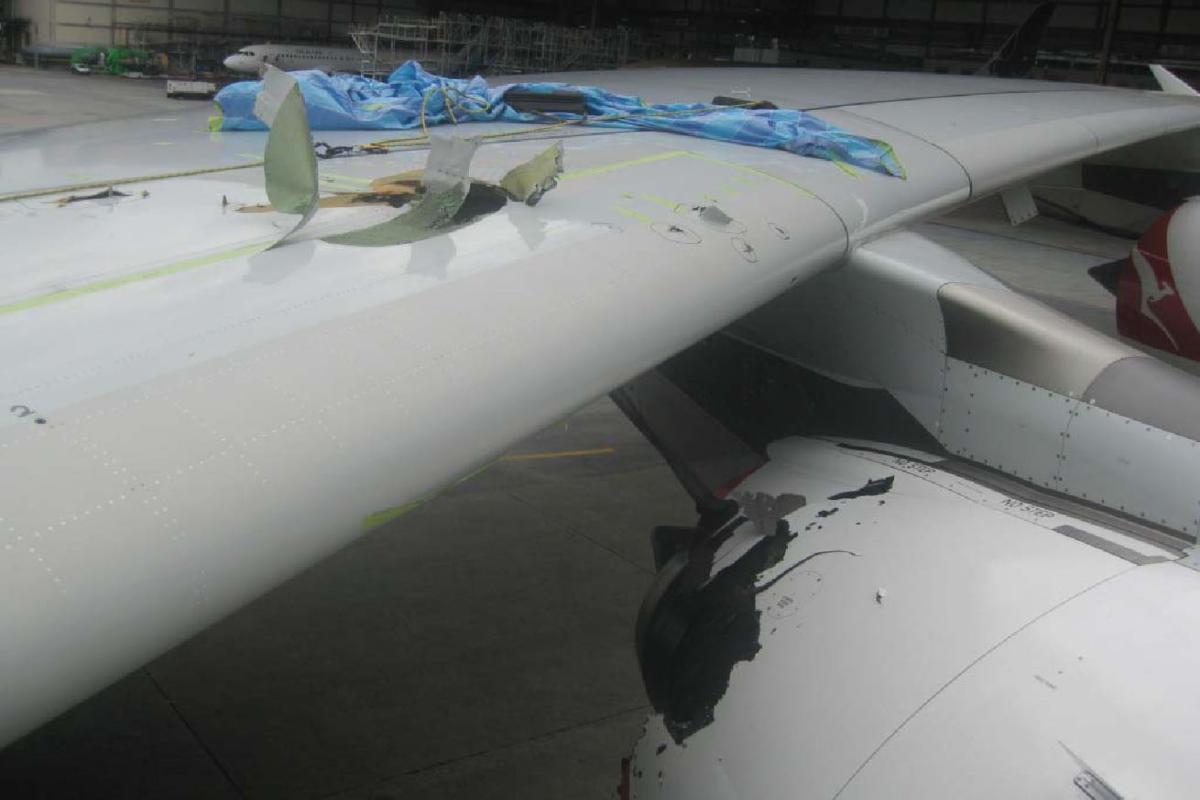Fuselage_damage: (611, 483, 805, 799), (636, 493, 804, 737), (640, 524, 793, 739), (321, 135, 477, 245), (255, 64, 319, 245), (499, 144, 563, 205), (320, 170, 422, 207), (740, 492, 804, 536), (451, 182, 507, 224), (696, 496, 738, 535), (827, 476, 893, 499), (59, 188, 129, 204), (471, 182, 488, 192)
